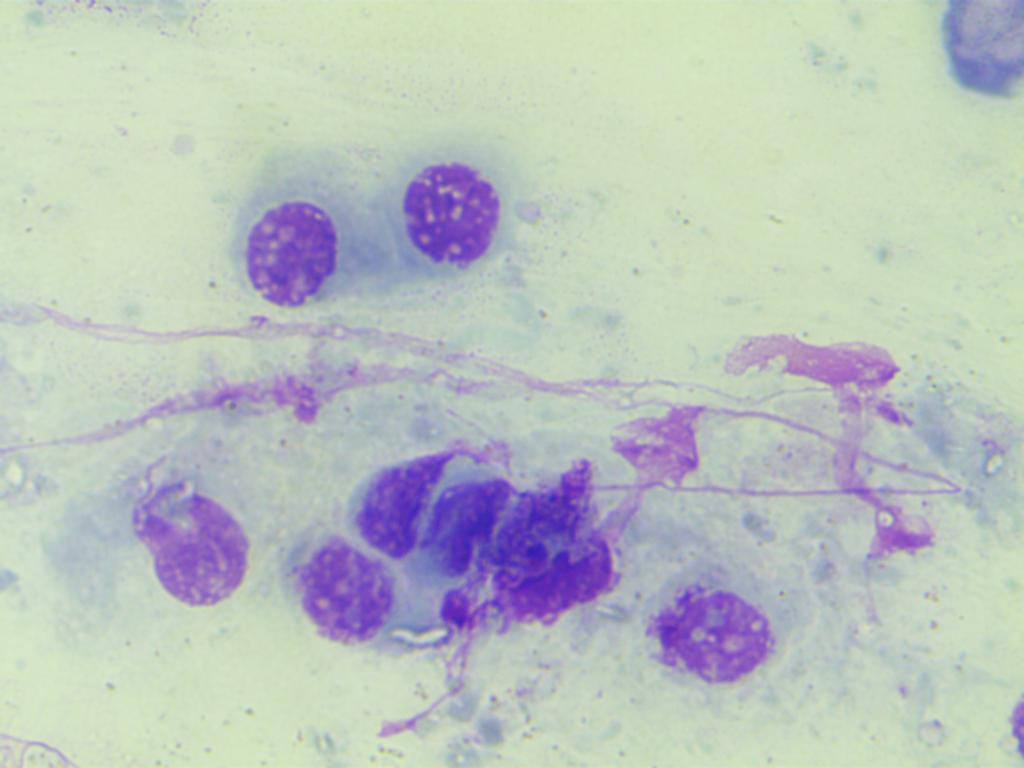artifact: (704, 326, 959, 561), (353, 438, 622, 640), (609, 391, 723, 511), (927, 0, 1024, 96)
epithelial: (133, 464, 256, 634), (384, 134, 511, 292), (224, 163, 351, 321), (640, 540, 767, 698), (276, 540, 394, 640)
